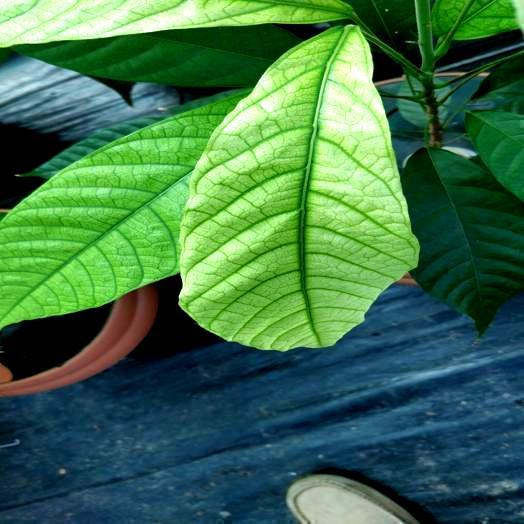Healthy Leaf: (402, 150, 523, 333), (14, 25, 299, 87), (466, 111, 523, 200)
Iron: (181, 26, 418, 349), (0, 95, 240, 327), (0, 0, 351, 46)
